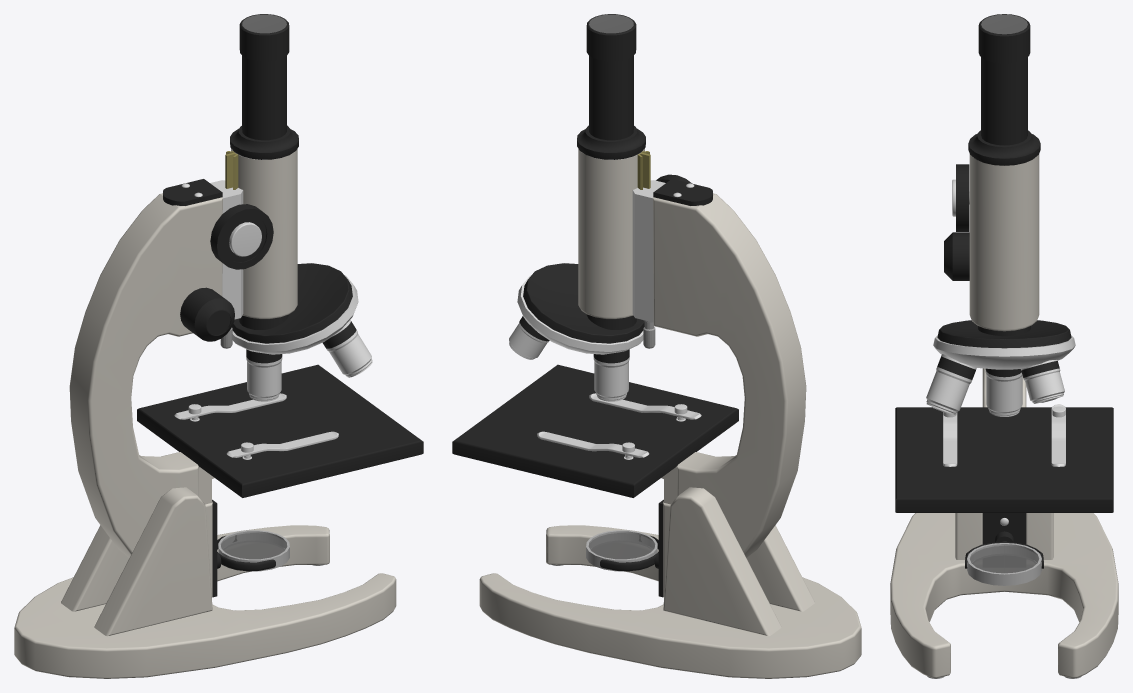
3 views of the same model, side by side, from view 1: azimuth 30°, elevation 25°; view 2: azimuth 150°, elevation 25°; view 3: azimuth 270°, elevation 25° (orthographic). The views are drawn at different scales.
Parts seen in each view (by area): view 1: pCube20 (×10); view 2: pCube20 (×9); view 3: pCube20 (×9).
Boxes of the visible parts, left/top/right/bottom form: pCube20 (×10): left=14, top=14, right=423, bottom=678; pCube20 (×9): left=452, top=14, right=861, bottom=678; pCube20 (×9): left=890, top=14, right=1118, bottom=678.
Bounding box in the file's own units: 1.26 × 2 × 0.682.
13 materials, 13 textured.
